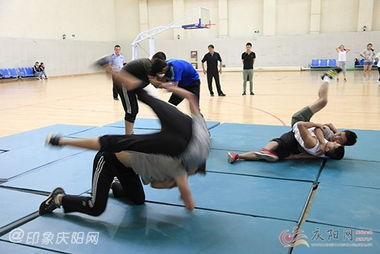fall: (49, 81, 210, 170)
